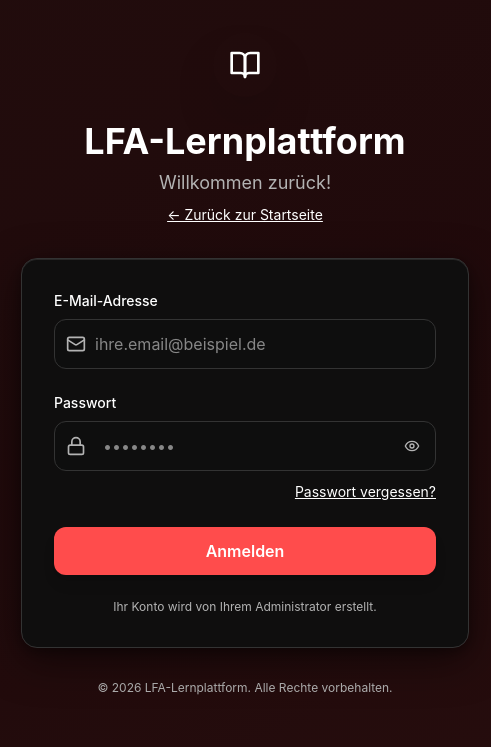
it: LoginForm and the occupation choice › the redirect of the form itself (profile appears while signing in) › goes back to the normal redirect after a failed sign in
This screenshot has width=491, height=747.
Step 1. Type "azubi@example.com" into the field labelled "E-Mail-Adresse" → (245,344), box [54, 318, 436, 368]
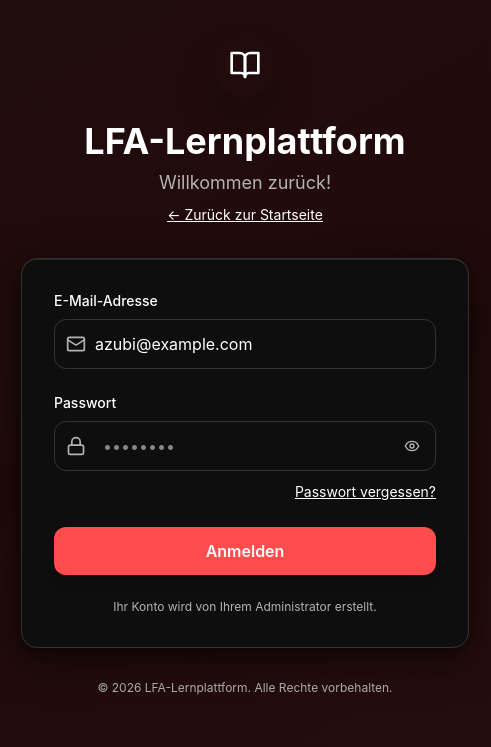
Step 2. Type "geheim" into the password field labelled "Passwort" → (245,446), box [54, 420, 436, 470]
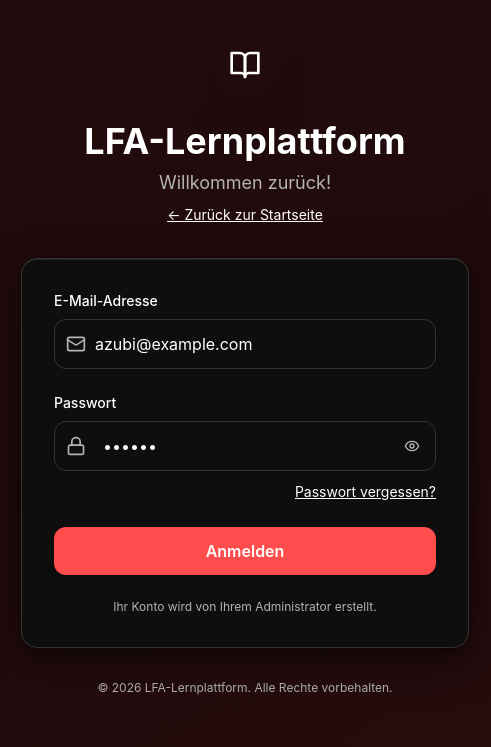
Step 3. Click the button "Anmelden" → (245,550), box [54, 526, 436, 574]
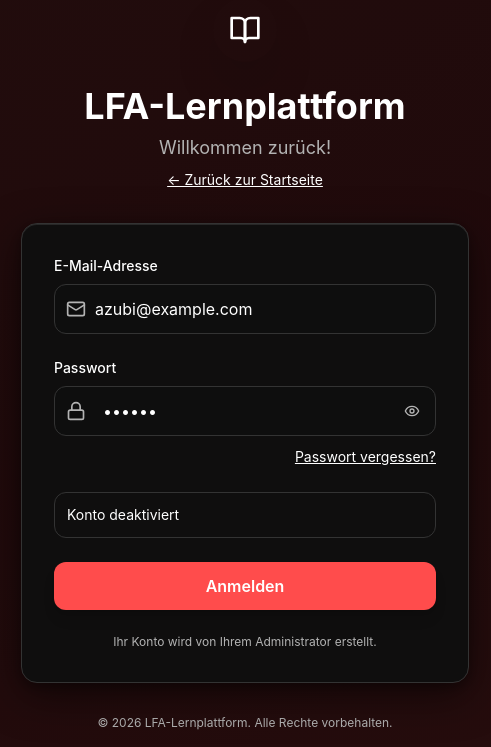
Now the text "Konto deaktiviert" is shown, box [67, 506, 179, 522]
